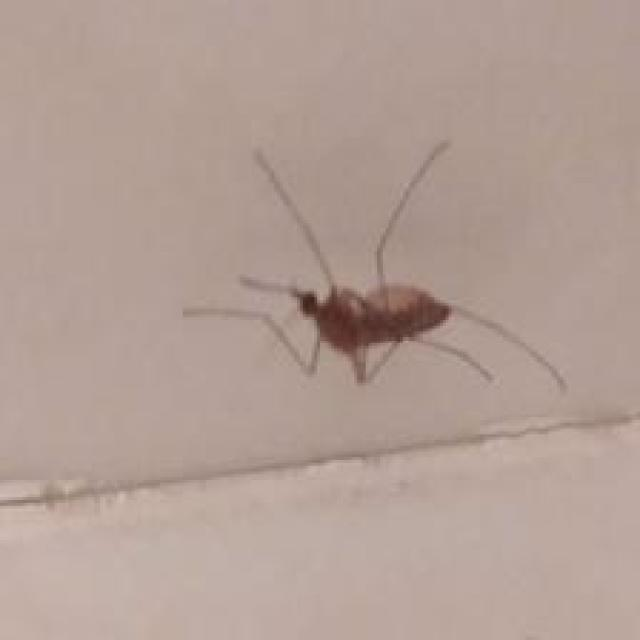Culex: (181, 136, 570, 396)
